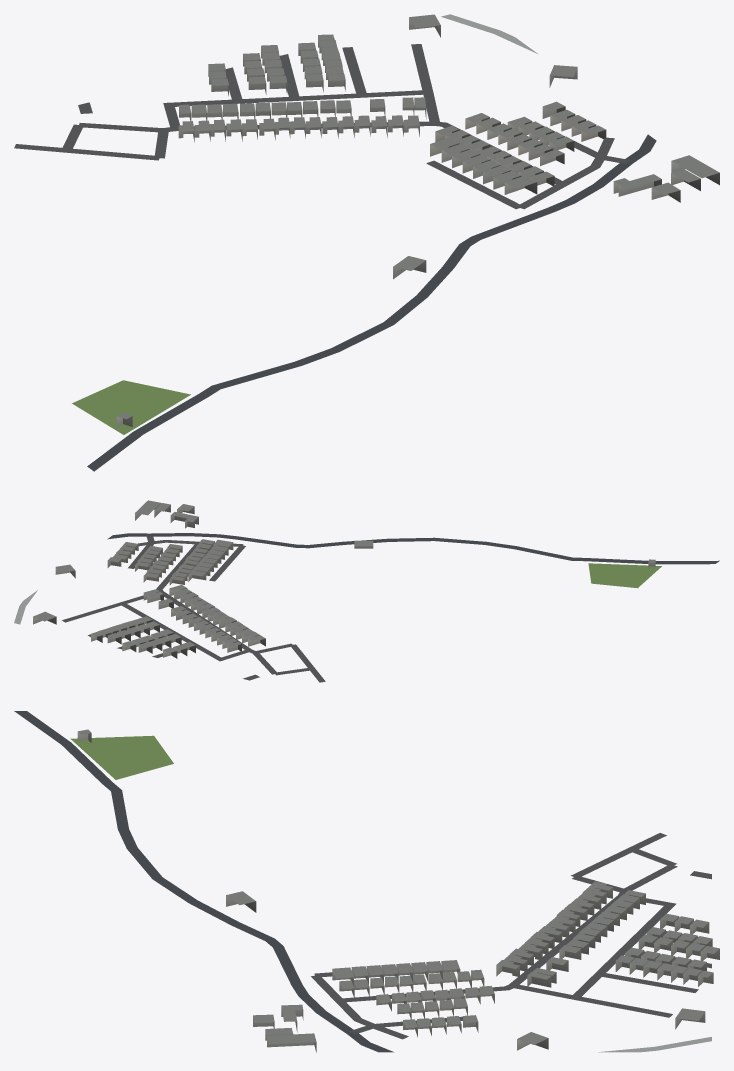
3 renders of one model, top to bottom at view 1: azimuth 30°, elevation 25°; view 2: azimuth 150°, elevation 25°; view 3: azimuth 270°, elevation 25°, orthographic. The views are drawn at different scales.
Visible parts, largest first — view 1: building, ground; view 2: building, ground; view 3: building, ground.
Part boxes in pixels (x1=…): building: x1=116, y1=14, x2=719, y2=426; ground: x1=14, y1=14, x2=656, y2=471; building: x1=33, y1=500, x2=655, y2=658; ground: x1=14, y1=533, x2=719, y2=682; building: x1=77, y1=729, x2=719, y2=1052; ground: x1=14, y1=711, x2=711, y2=1052.
Bounding box in the file's own units: 504 × 8 × 437.
